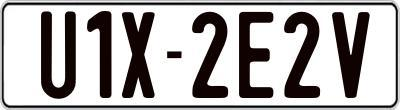1: (87, 8, 114, 99)
2: (192, 10, 232, 102), (282, 12, 319, 101)
E: (238, 12, 278, 100)
U: (40, 8, 81, 98)
V: (331, 11, 375, 100)
X: (122, 12, 157, 99)
